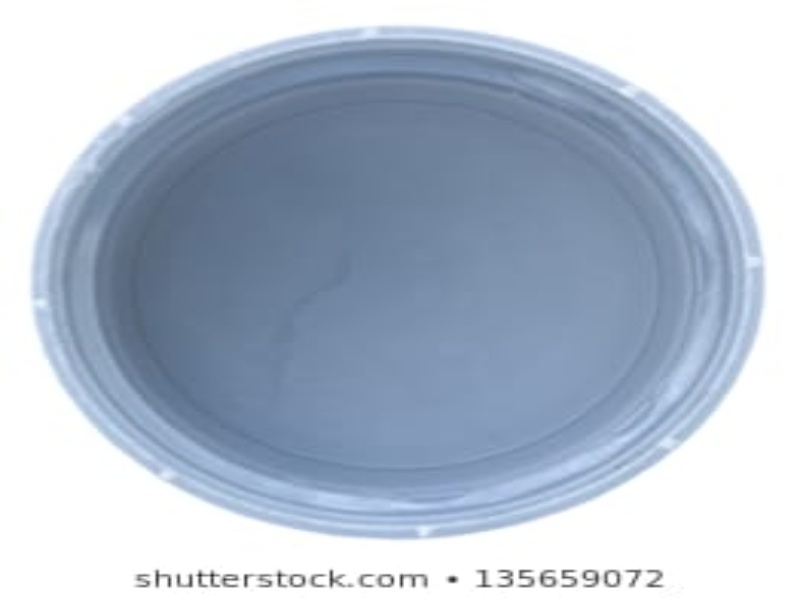bottle-cap: (28, 23, 768, 544)
